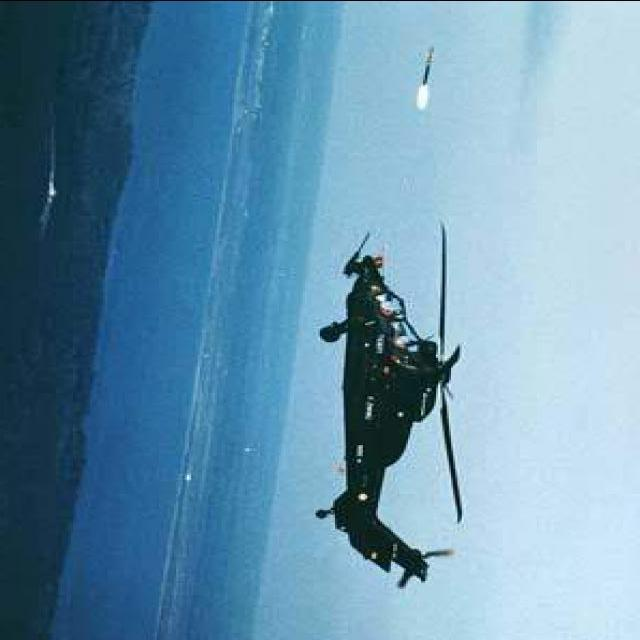missile: (416, 44, 445, 92)
